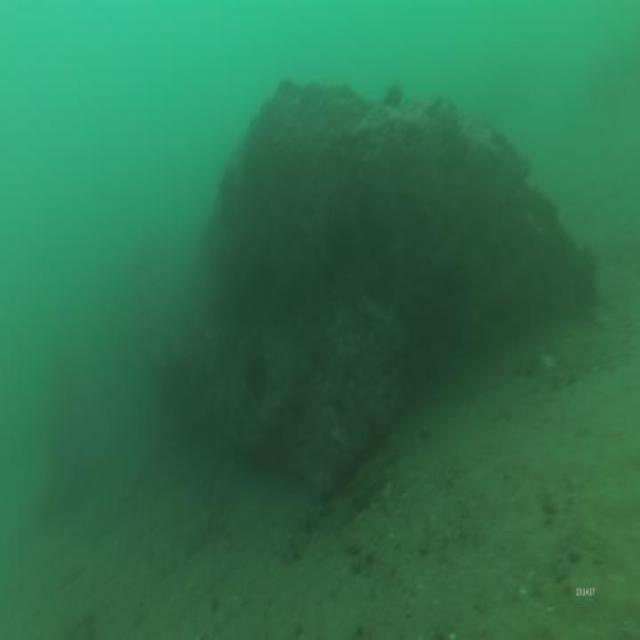holothurian: (244, 344, 270, 400), (378, 79, 406, 115)
